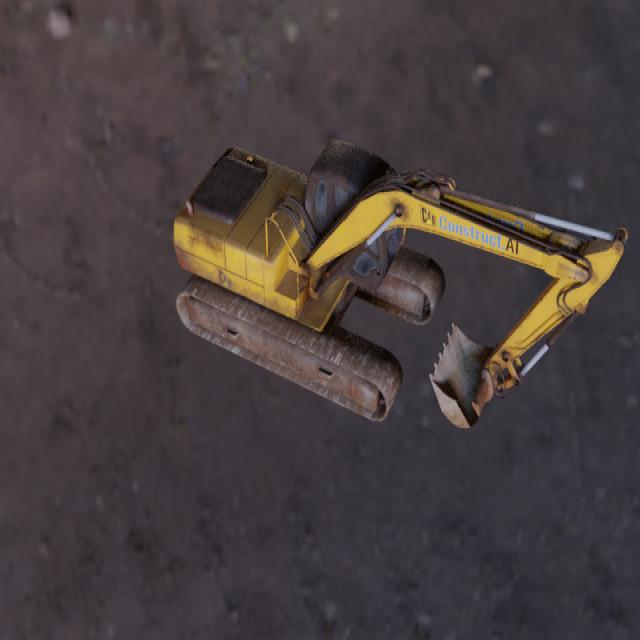excavator: (173, 137, 628, 428)
